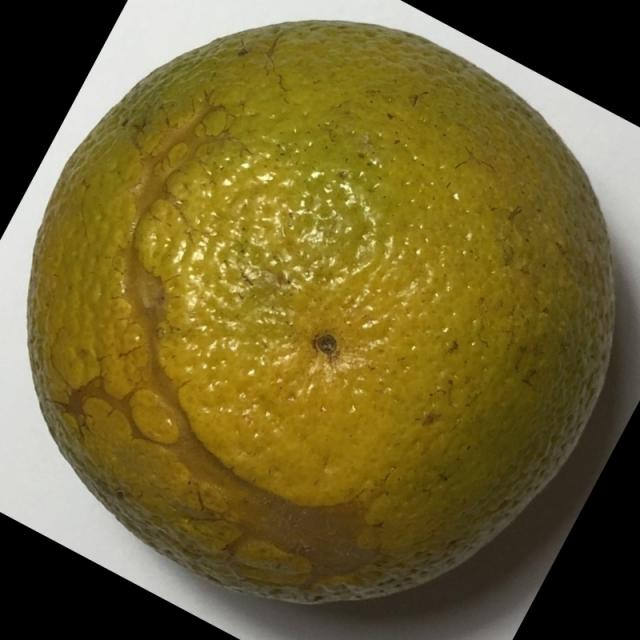canker: (30, 10, 634, 640)
